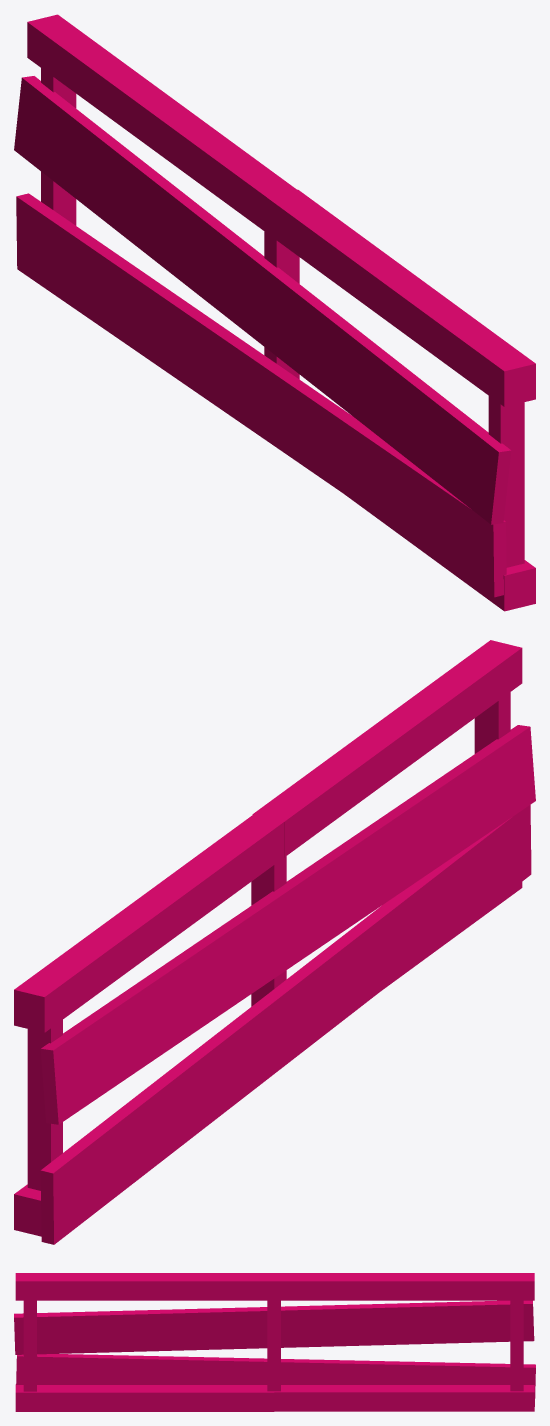
File: Bastion_Fence_08_Lod0.fbx
The picture shows the model from 3 angles, top to bottom: view 1: azimuth 30°, elevation 25°; view 2: azimuth 150°, elevation 25°; view 3: azimuth 270°, elevation 25°; orthographic projection. The views are drawn at different scales.
Parts seen in each view (by area): view 1: Bastion_Fence_08_Lod0; view 2: Bastion_Fence_08_Lod0; view 3: Bastion_Fence_08_Lod0.
Boxes of the visible parts, bbox=[...] form: Bastion_Fence_08_Lod0: bbox=[14, 14, 535, 611]; Bastion_Fence_08_Lod0: bbox=[14, 640, 535, 1244]; Bastion_Fence_08_Lod0: bbox=[14, 1273, 535, 1411].
Size of the model in its own units: 16.34 by 84.81 by 301.
